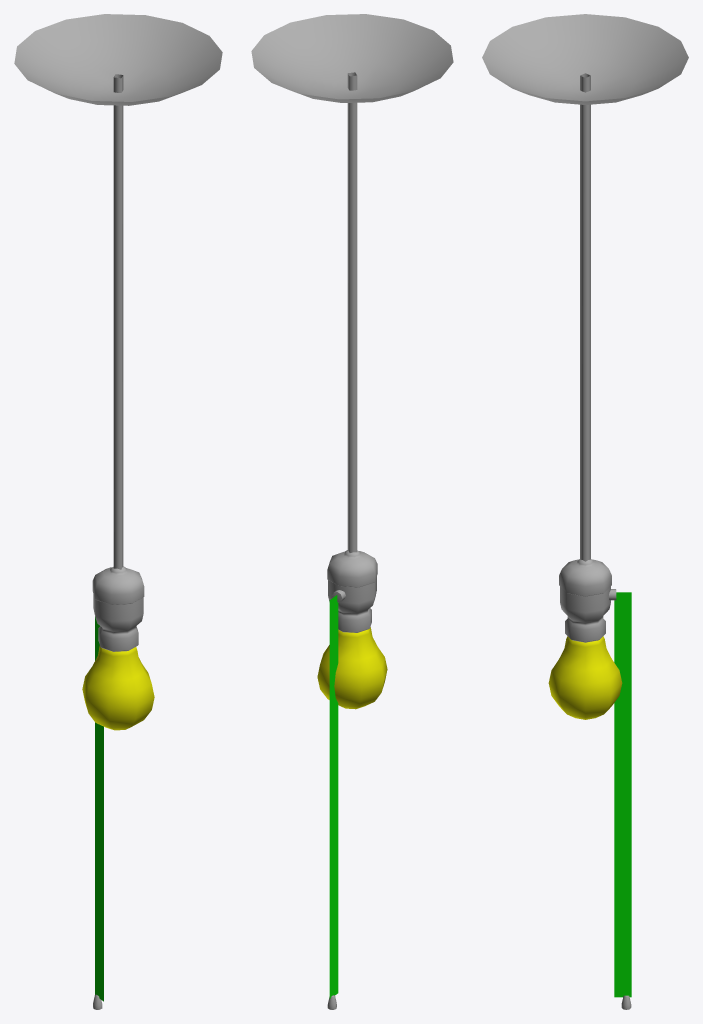
The model's file is sm_light.fbx.
The picture shows the model from 3 angles, left to right: view 1: azimuth 30°, elevation 25°; view 2: azimuth 150°, elevation 25°; view 3: azimuth 270°, elevation 25°; orthographic projection. The views are drawn at different scales.
Visible parts, largest first — view 1: light_low1; view 2: light_low1; view 3: light_low1.
Boxes of the visible parts, box(x1,y1,x2,y2) form: light_low1: box(14, 14, 222, 1009); light_low1: box(251, 14, 453, 1009); light_low1: box(482, 14, 688, 1009).
Bounding box in the file's own units: 22.2 × 113 × 22.2.
